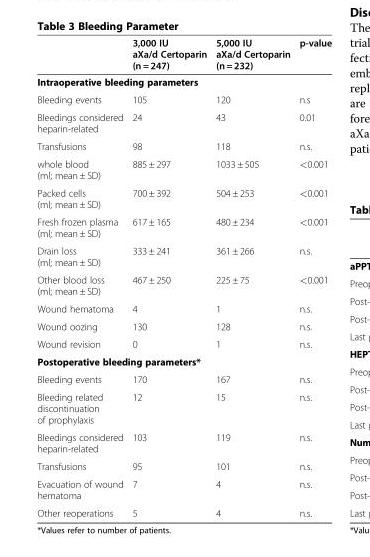table: (36, 36, 331, 518)
table column: (36, 36, 127, 518), (210, 36, 294, 518), (127, 36, 210, 518), (294, 36, 331, 518)
table column header: (36, 36, 331, 73)
table projected row header: (36, 352, 331, 370), (36, 73, 331, 90)
table row: (36, 387, 331, 428), (36, 36, 331, 73), (36, 108, 331, 137), (36, 154, 331, 183), (36, 183, 331, 212), (36, 212, 331, 241), (36, 241, 331, 270), (36, 270, 331, 299), (36, 428, 331, 457), (36, 474, 331, 503), (36, 90, 331, 108), (36, 299, 331, 317), (36, 334, 331, 352), (36, 352, 331, 370), (36, 73, 331, 90), (36, 137, 331, 154), (36, 317, 331, 334), (36, 370, 331, 387), (36, 457, 331, 474), (36, 503, 331, 518)
